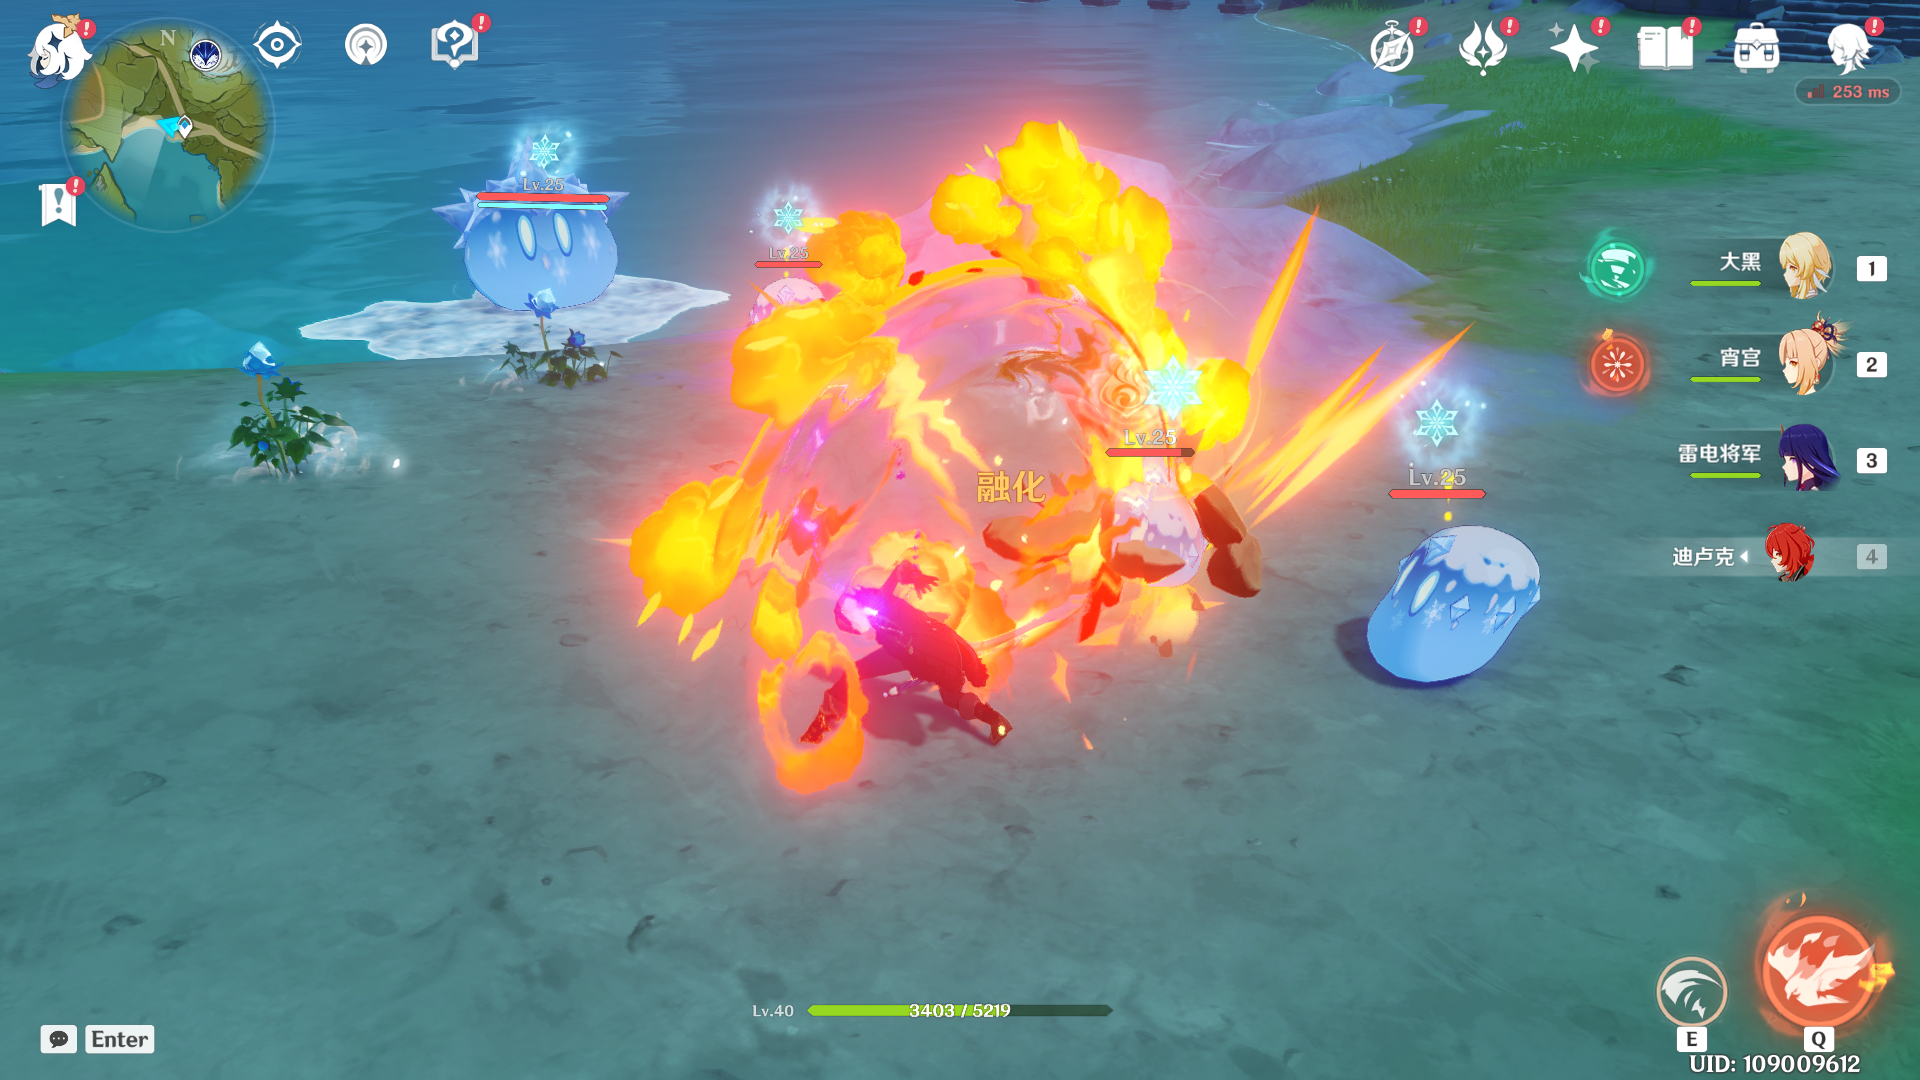character: (766, 521, 1091, 829)
slime: (1325, 496, 1600, 717), (423, 160, 655, 320), (1065, 460, 1225, 611), (735, 280, 841, 352)
